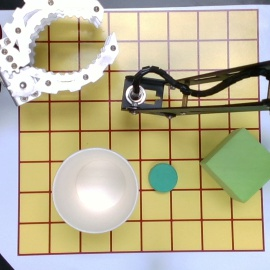cup: (51, 148, 139, 236)
green: (148, 163, 179, 192)
